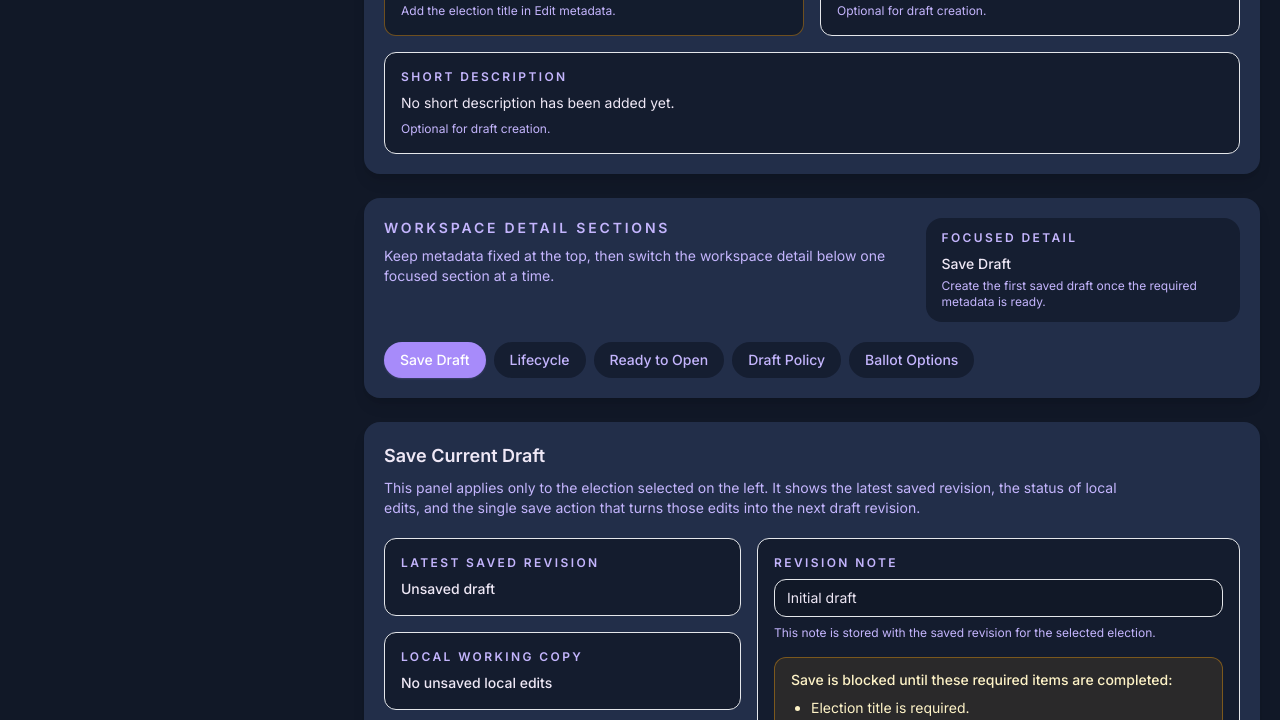
Scenario: ElectionsWorkspace › keeps the workspace on a blank new draft when opened in create mode
(page scrolled)
Click the button with test id "elections-detail-tab-options" at [912, 360], box [849, 342, 974, 378]
(page scrolled)
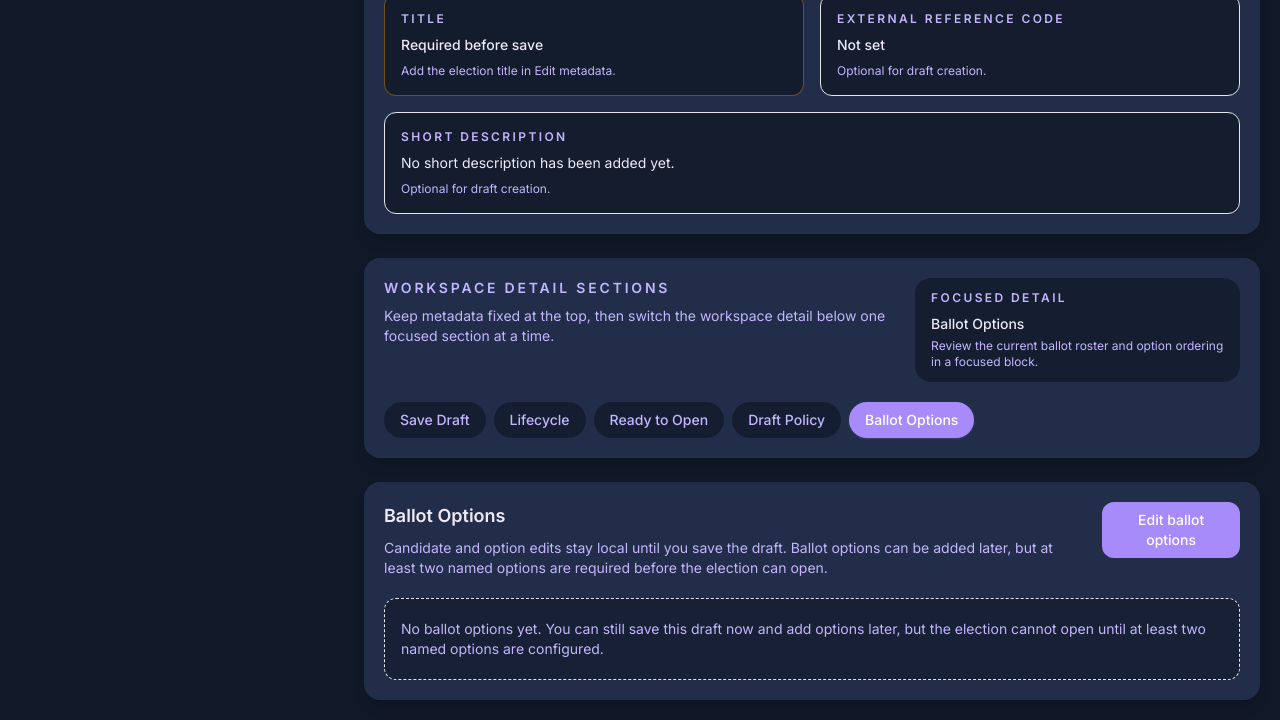
Expected: the text "Not set" is shown, [837, 36, 885, 53]
Expected: the text "You can still save this draft now and add options later" is shown, [401, 620, 1206, 657]
